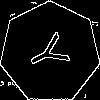Y: (25, 27, 79, 77)
